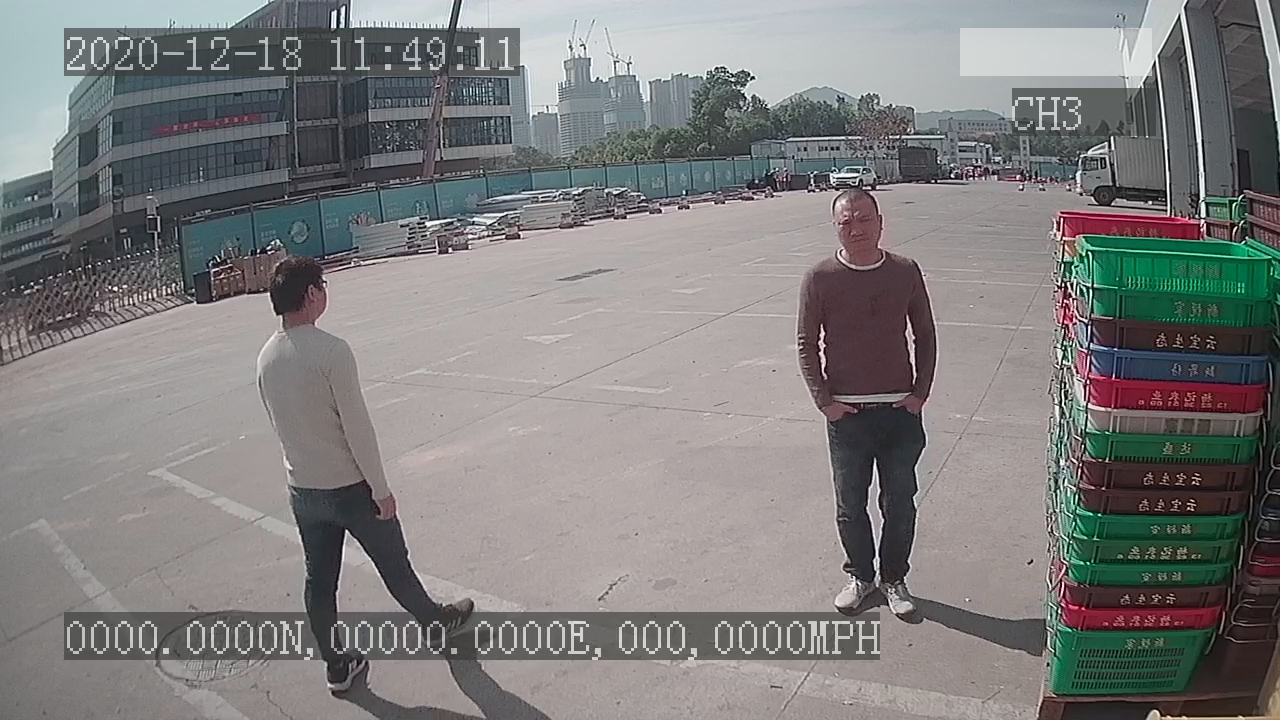person: (793, 183, 942, 611)
